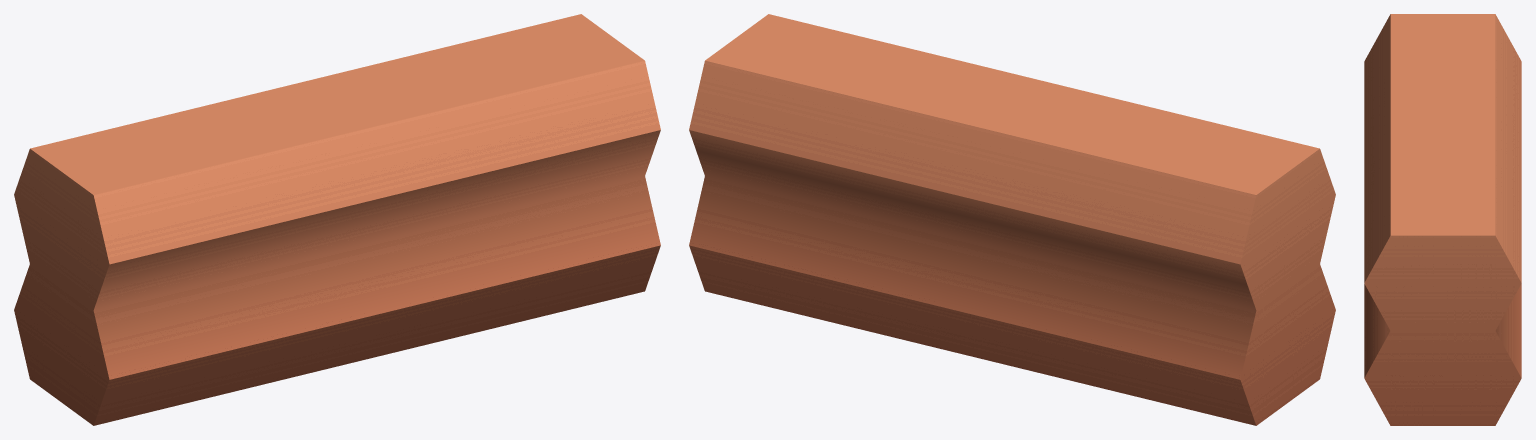
The model's file is cabin_wall_low.glb.
3 views of the same model, side by side, from view 1: azimuth 30°, elevation 25°; view 2: azimuth 150°, elevation 25°; view 3: azimuth 270°, elevation 25° (orthographic). The views are drawn at different scales.
Visible parts, largest first — view 1: cabin-wall-low; view 2: cabin-wall-low; view 3: cabin-wall-low.
Boxes of the visible parts, x1,y1,x2,y2 form: cabin-wall-low: (14, 14, 660, 425); cabin-wall-low: (689, 14, 1335, 425); cabin-wall-low: (1364, 14, 1521, 425).
Size of the model in its own units: 1 by 0.4 by 0.3.
1 material, 1 textured.
